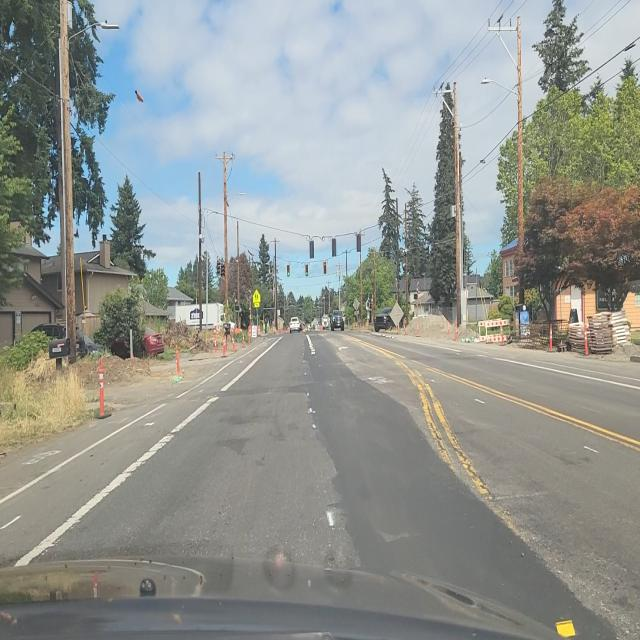car: (374, 308, 396, 334), (330, 310, 344, 331), (289, 316, 301, 333), (222, 321, 235, 336), (322, 316, 329, 330)
crosswalk-sign: (252, 289, 261, 307)
delineator: (98, 356, 106, 418), (173, 346, 183, 382), (584, 318, 588, 356), (222, 332, 227, 356), (549, 324, 553, 353), (241, 326, 246, 347), (214, 326, 218, 352), (232, 331, 236, 353), (454, 322, 458, 340), (248, 324, 252, 342), (416, 320, 420, 337), (403, 322, 407, 335), (257, 324, 261, 337), (448, 322, 450, 336)
